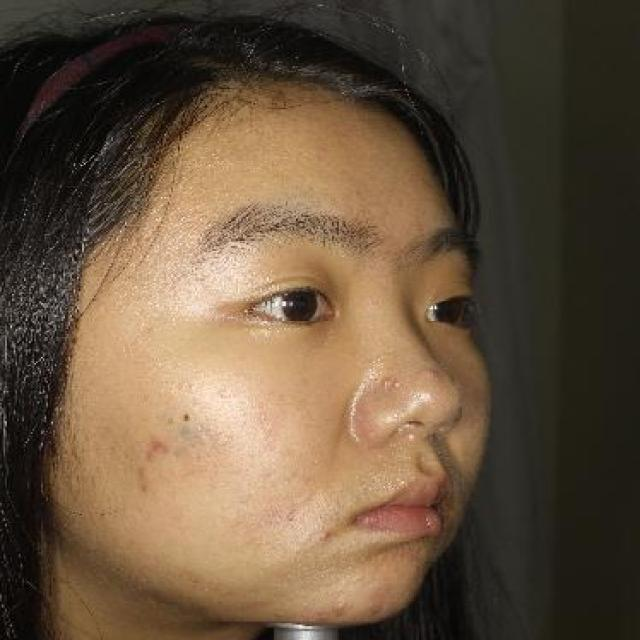dark spot: (139, 437, 171, 463)
papules: (421, 364, 447, 382)
